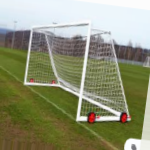goals: (23, 21, 131, 122)
